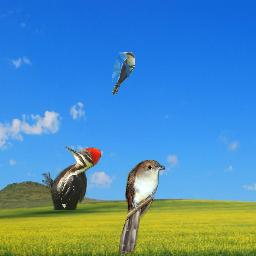Cuckoo: (119, 159, 165, 254), (112, 52, 135, 95)
Woodpecker: (42, 146, 101, 210)
